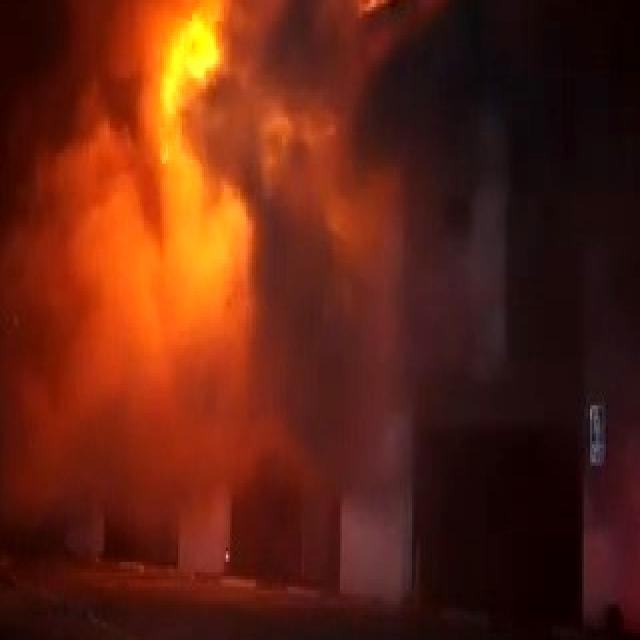smoke: (68, 118, 377, 469)
